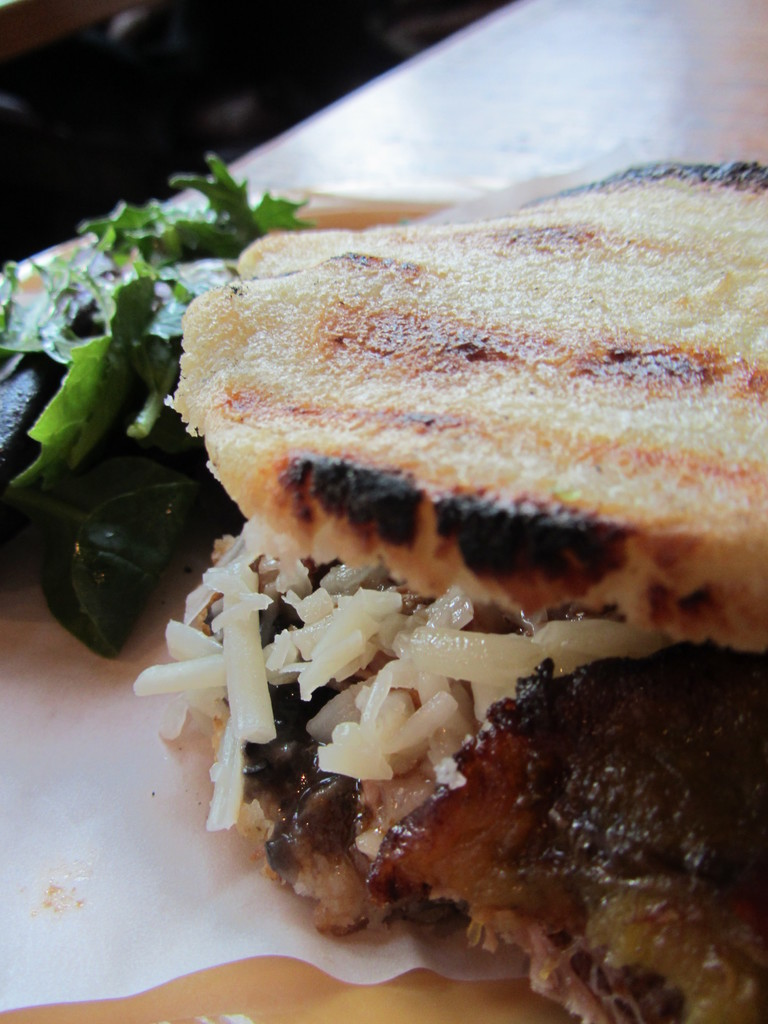sandwich: (125, 157, 767, 1023)
